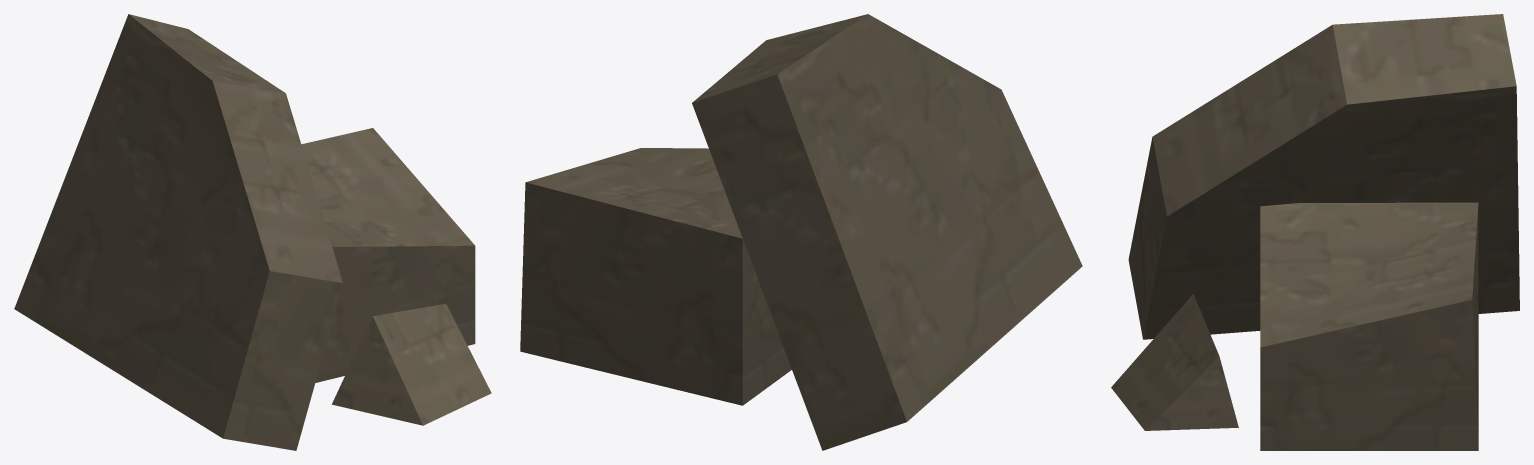
Rendered from ww2_brokenbrick.obj.
3 views of the same model, side by side, from view 1: azimuth 30°, elevation 25°; view 2: azimuth 150°, elevation 25°; view 3: azimuth 270°, elevation 25° (orthographic). The views are drawn at different scales.
Parts seen in each view (by area): view 1: ww2_brokenbrick; view 2: ww2_brokenbrick; view 3: ww2_brokenbrick.
Boxes of the visible parts, <box> form: ww2_brokenbrick: <box>14,14,491,450</box>; ww2_brokenbrick: <box>520,14,1082,450</box>; ww2_brokenbrick: <box>1111,14,1519,450</box>.
Size of the model in its own units: 0.9782 by 0.8446 by 0.9562.
1 material, 1 textured.
